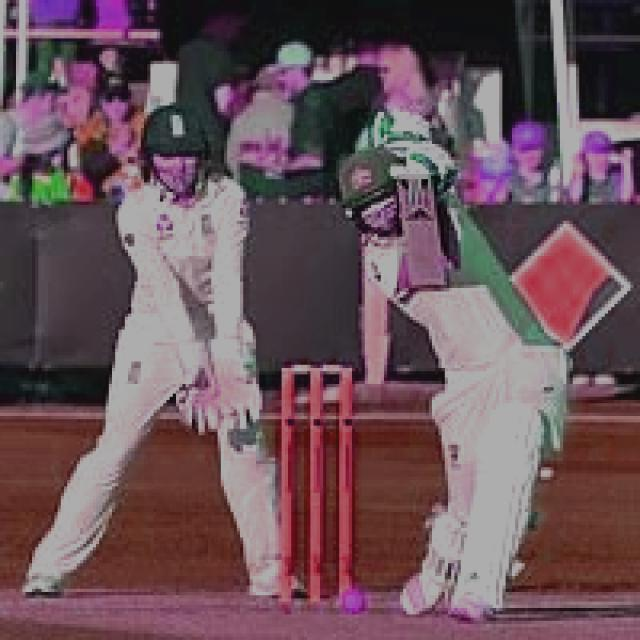bat: (397, 155, 451, 304)
toe: (410, 278, 451, 294)
